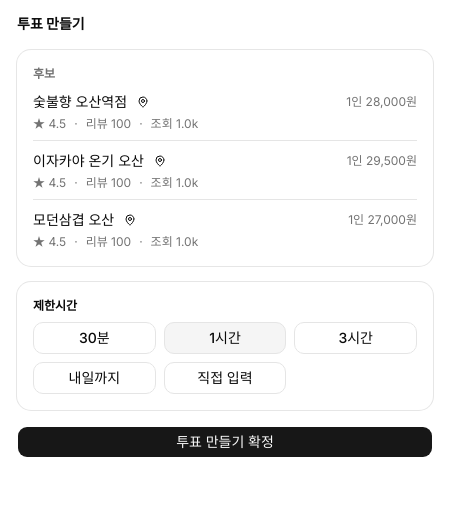
CreateVoteForm › 직접 입력 선택 → 분 입력란이 나타나고, 값을 채워 확정하면 customMinutes와 함께 요청된다
Click the radio button labelled "직접 입력" at (225, 378), box [164, 362, 286, 394]
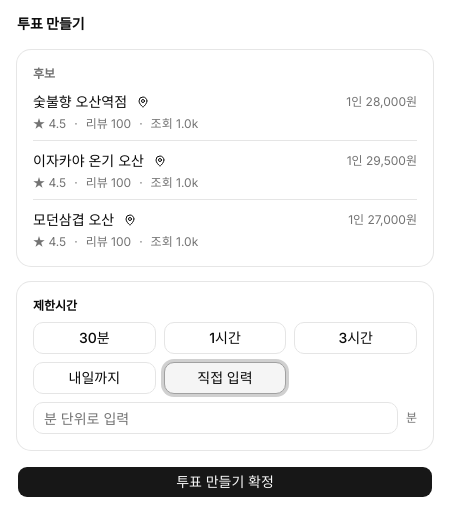
Type "90" into the number field named "제한시간 직접 입력(분)" at (216, 418), box [33, 402, 398, 434]
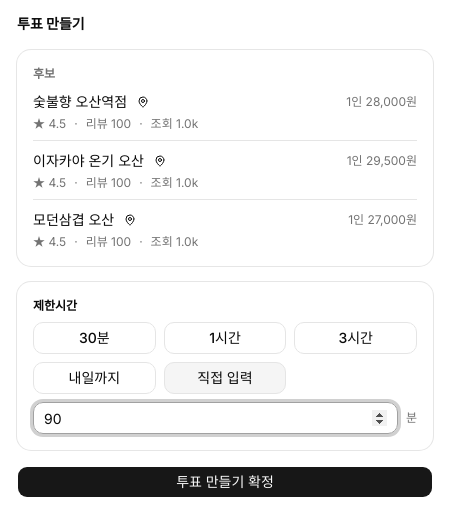
Click the button "투표 만들기 확정" at (225, 482), box [17, 466, 433, 498]
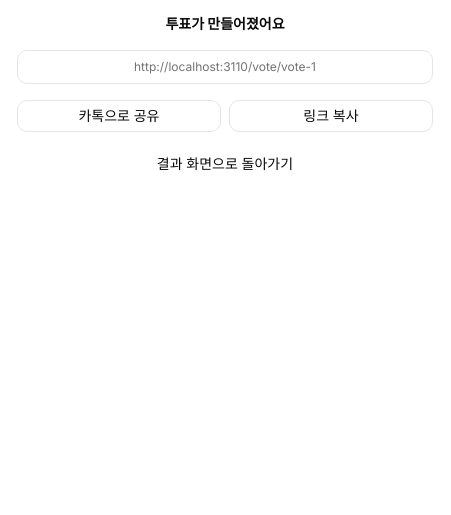
Check: the text "http://localhost:3110/vote/vote-1" is shown, box [17, 50, 433, 84]
